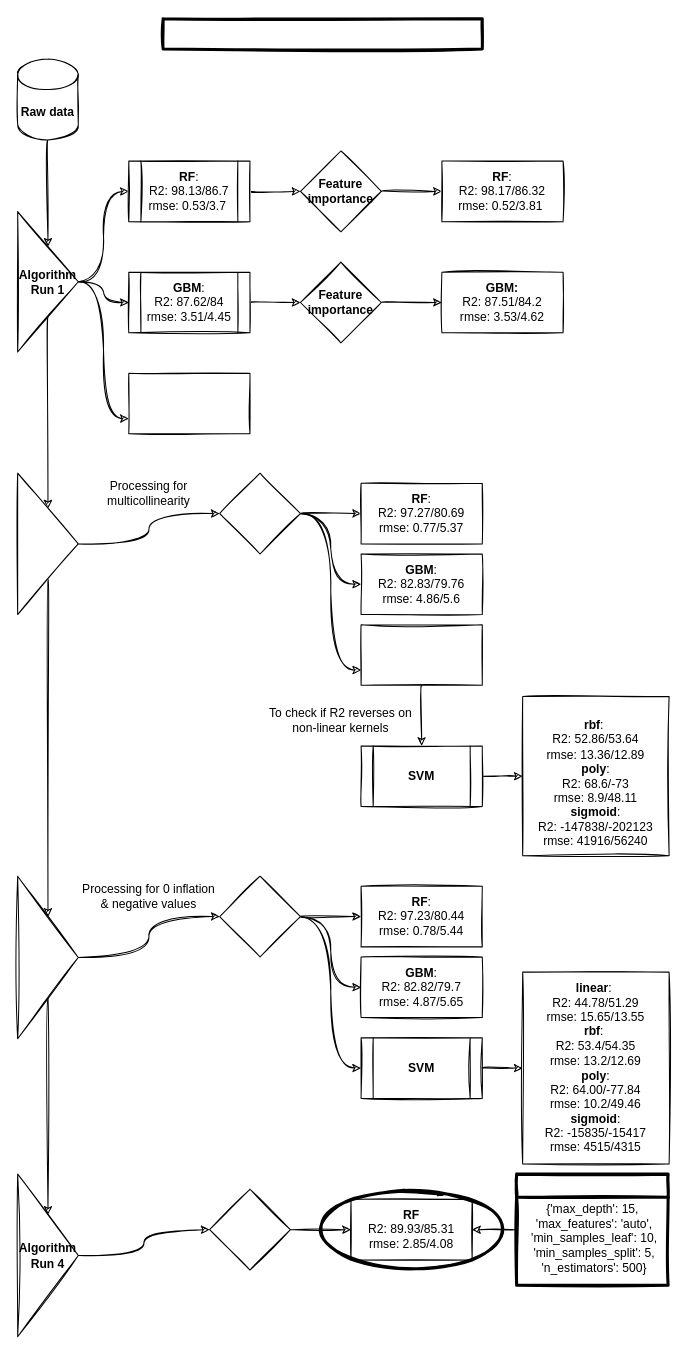
This 687x1354 diagram has some shape labels left out. Each missing label, with the box of its shape:
Algorithm Run 2: (17, 472, 78, 615)
Algorithm Run 3: (17, 875, 78, 1039)
Feature selection by VIF: (219, 472, 300, 554)
Hyperparameters: (515, 1172, 669, 1286)
log(x – (min(x)-1)) trandformation: (219, 875, 300, 957)
LR : R2: -4.6/-6.4 rmse: 1.3/1.8: (128, 372, 250, 434)
LR R2: -8.7/-7.15 rmse: 2.47/1.98: (360, 624, 482, 685)
MACHINE LEARNING WORKFLOW: (161, 17, 483, 50)
Optimizing Hyperparameter: (209, 1188, 290, 1270)
